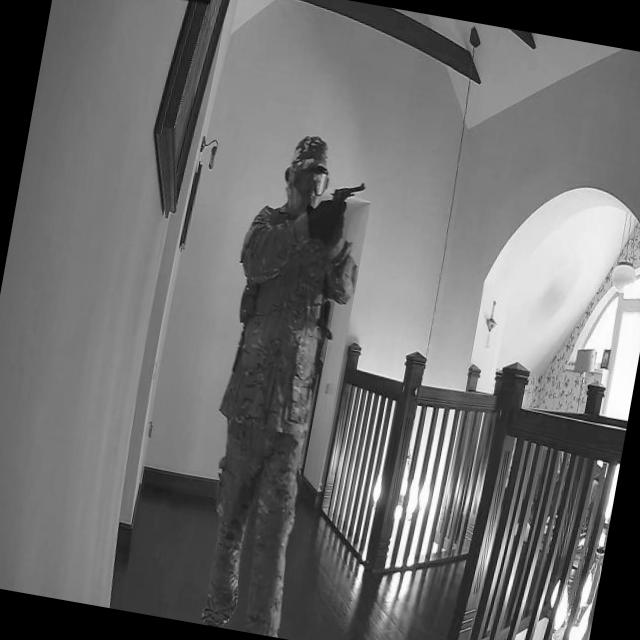gun: (328, 176, 368, 214)
person with a gun: (177, 123, 374, 639)
